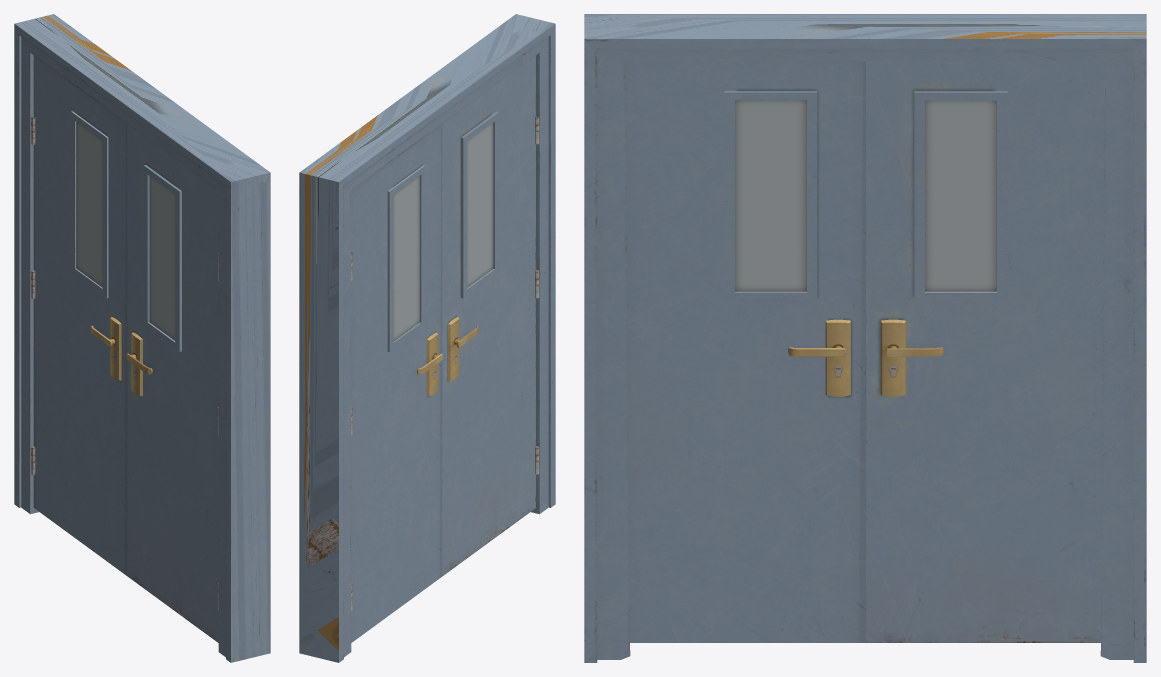
The model's file is Door2.FBX.
3 renders of one model, left to right at view 1: azimuth 30°, elevation 25°; view 2: azimuth 150°, elevation 25°; view 3: azimuth 270°, elevation 25°, orthographic. The views are drawn at different scales.
Parts seen in each view (by area): view 1: 对象001, 对象003, 对象004; view 2: 对象001, 对象004, 对象003; view 3: 对象004, 对象003, 对象001.
Boxes of the visible parts, left/top/right/bottom form: 对象001: left=14, top=14, right=270, bottom=662; 对象003: left=33, top=55, right=127, bottom=575; 对象004: left=126, top=124, right=218, bottom=642; 对象001: left=299, top=14, right=555, bottom=662; 对象004: left=442, top=56, right=535, bottom=576; 对象003: left=351, top=124, right=442, bottom=642; 对象004: left=625, top=61, right=865, bottom=642; 对象003: left=866, top=61, right=1105, bottom=642; 对象001: left=584, top=14, right=1146, bottom=662.
Bounding box in the file's own units: 0.214 × 2.26 × 1.85.
